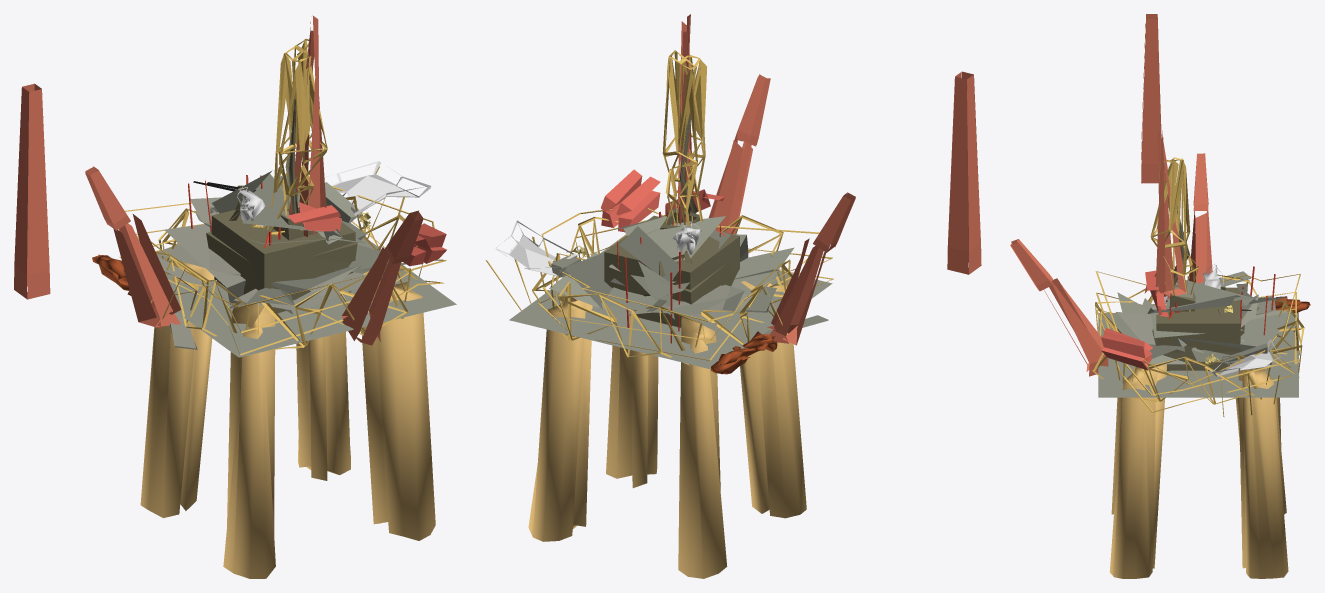
The model's file is oilplatform_broken.fbx.
The picture shows the model from 3 angles, left to right: view 1: azimuth 30°, elevation 25°; view 2: azimuth 150°, elevation 25°; view 3: azimuth 270°, elevation 25°; orthographic projection. The views are drawn at different scales.
Parts seen in each view (by area): view 1: BezierCurve.002, Plane.014; view 2: BezierCurve.002, Plane.014; view 3: BezierCurve.002, Plane.014.
Boxes of the visible parts, <box> form: BezierCurve.002: <box>85,15,456,578</box>; Plane.014: <box>14,83,50,299</box>; BezierCurve.002: <box>485,14,855,578</box>; Plane.014: <box>947,71,981,274</box>; BezierCurve.002: <box>1010,130,1310,578</box>; Plane.014: <box>1141,14,1161,183</box>.
Bounding box in the file's own units: 391 × 436 × 285.
